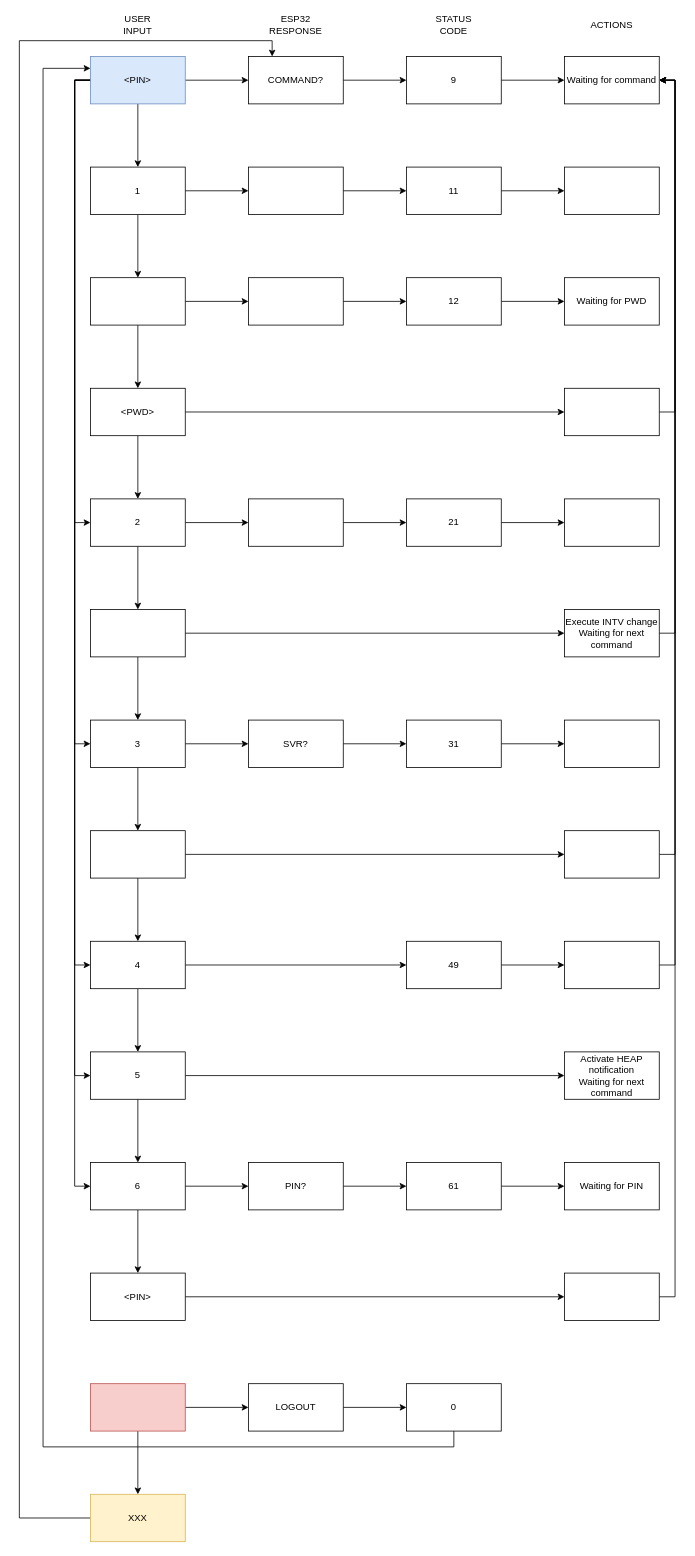
Some shapes in this 695 by 1556 pixel diagram are drawn without their labels. The centre of each missing label's shape, as x and y in pixels:
"<INTV>" belongs at point (137, 633).
"<SSID>" belongs at point (137, 301).
"<SVR>" belongs at point (137, 854).
"Execute BSCN, send to server Waiting for next command" belongs at point (611, 964).
"Execute PIN change Waiting for next command" belongs at point (611, 1296).
"Execute SVR change Waiting for next command" belongs at point (611, 854).
"Execute WIFI change Waiting for next command" belongs at point (611, 411).
"INTV?" belongs at point (295, 522).
"OK" belongs at point (137, 1407).
"PWD?" belongs at point (295, 301).
"SSID?" belongs at point (295, 190).
"Waiting for INTV" belongs at point (611, 522).
"Waiting for SSID" belongs at point (611, 190).
"Waiting for SVR" belongs at point (611, 743).
